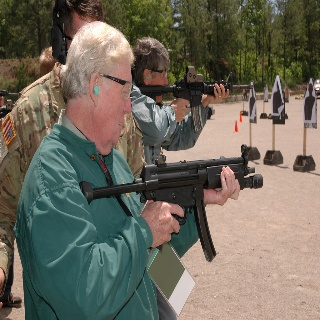rifle: (76, 143, 264, 265), (138, 65, 254, 133)
